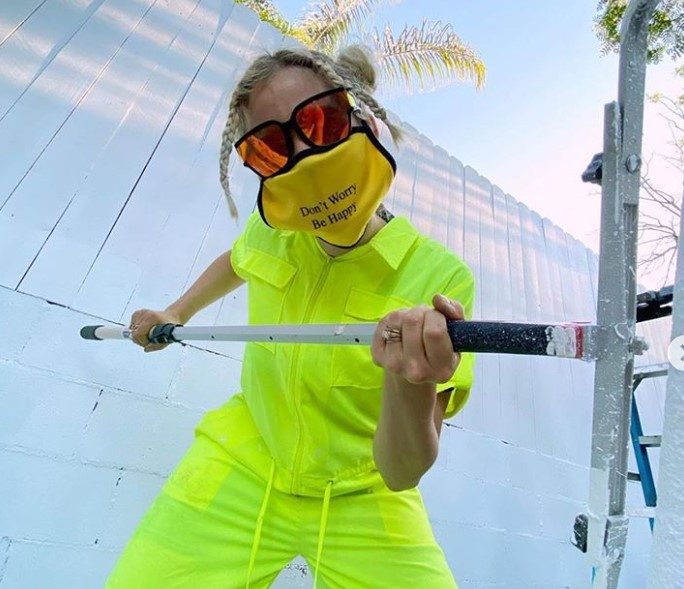face_with_mask: (230, 58, 399, 254)
